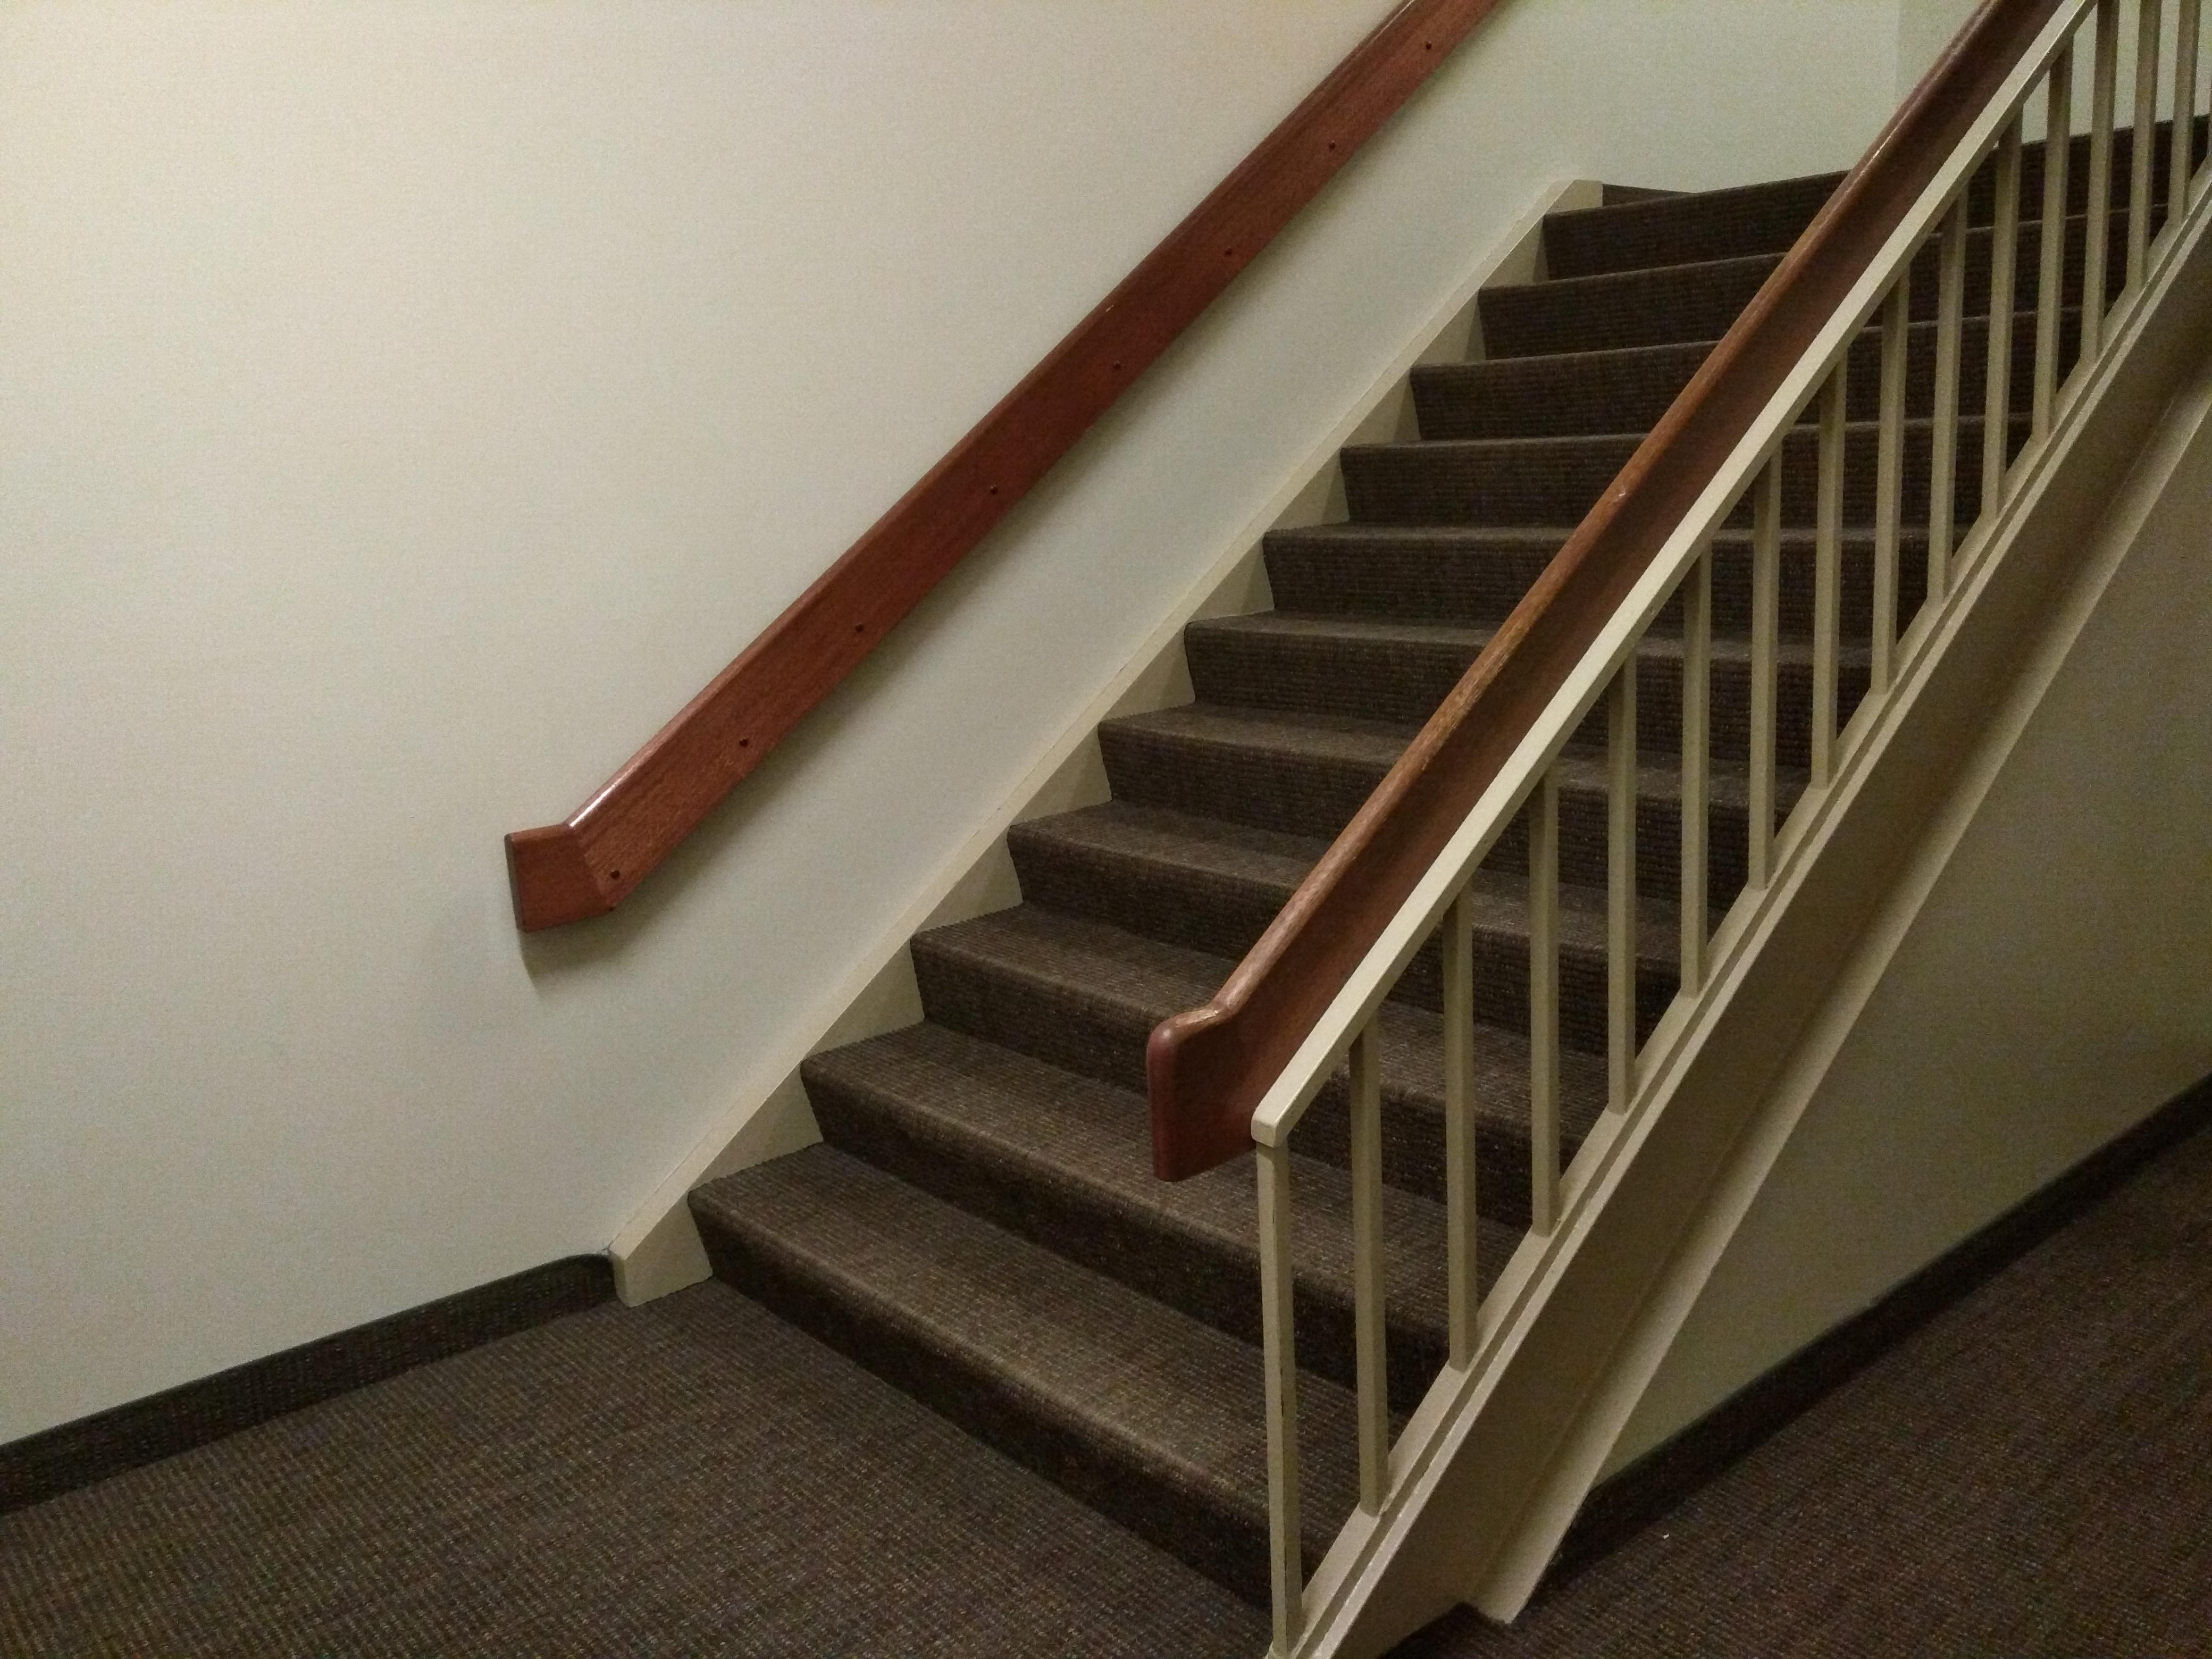stairs_up: (669, 105, 2212, 1527)
